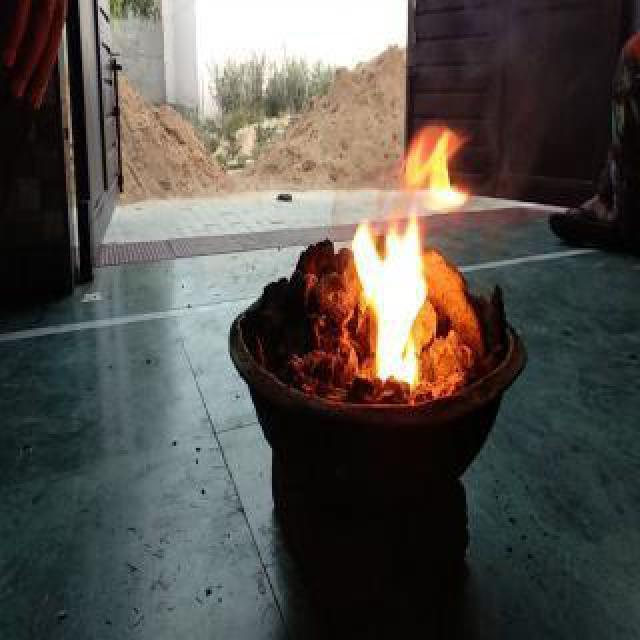Fire: (342, 114, 458, 402)
Smoke: (460, 0, 566, 118)
